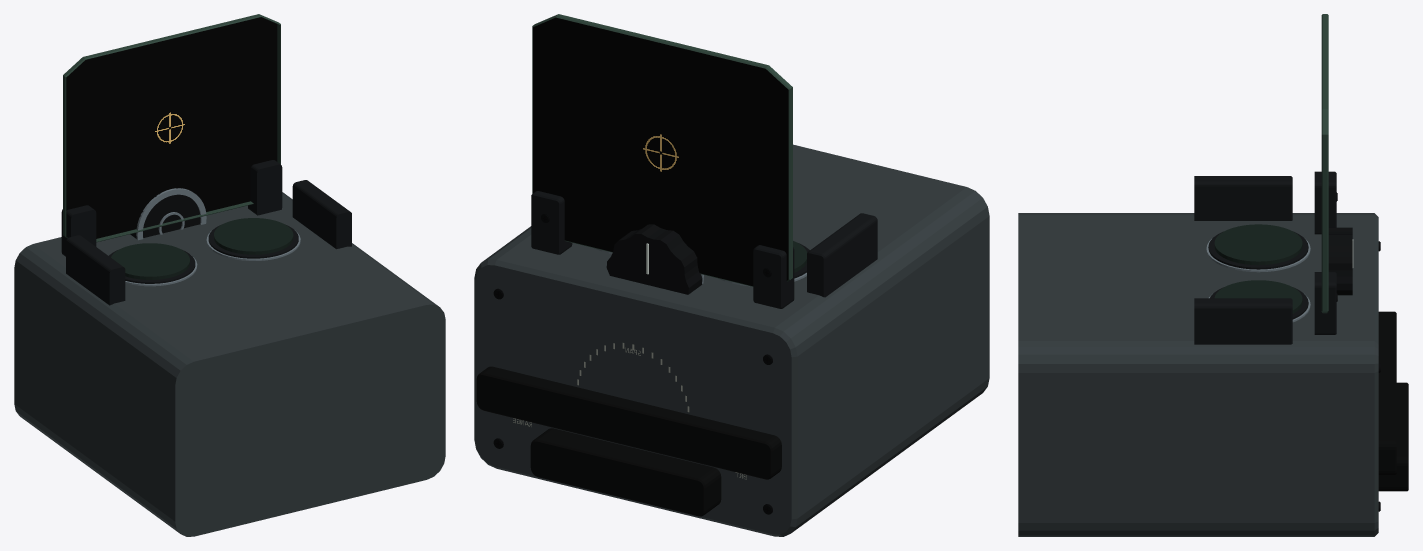
Rendered from MFDStudio.obj.
The picture shows the model from 3 angles, left to right: view 1: azimuth 30°, elevation 25°; view 2: azimuth 150°, elevation 25°; view 3: azimuth 270°, elevation 25°; orthographic projection. The views are drawn at different scales.
Parts seen in each view (by area): view 1: MFDStudioBody, MFDStudioScreen, MFDStudioCombinerFrame, MFDStudioKnob1; view 2: MFDStudioBody, MFDStudioScreen, MFDStudioCombinerFrame, MFDStudioKnob1; view 3: MFDStudioBody, MFDStudioCombinerFrame, MFDStudioKnob1.
Boxes of the visible parts, x1,y1,x2,y2 form: MFDStudioBody: [14, 180, 445, 536]; MFDStudioScreen: [66, 17, 277, 238]; MFDStudioCombinerFrame: [61, 14, 282, 256]; MFDStudioKnob1: [130, 188, 206, 240]; MFDStudioBody: [474, 144, 989, 536]; MFDStudioScreen: [533, 17, 788, 286]; MFDStudioCombinerFrame: [531, 14, 794, 308]; MFDStudioKnob1: [606, 224, 703, 294]; MFDStudioBody: [1018, 176, 1408, 536]; MFDStudioCombinerFrame: [1314, 14, 1336, 334]; MFDStudioKnob1: [1328, 227, 1353, 295].
Size of the model in its own units: 0.1728 by 0.2262 by 0.195.
12 materials, 1 textured.
